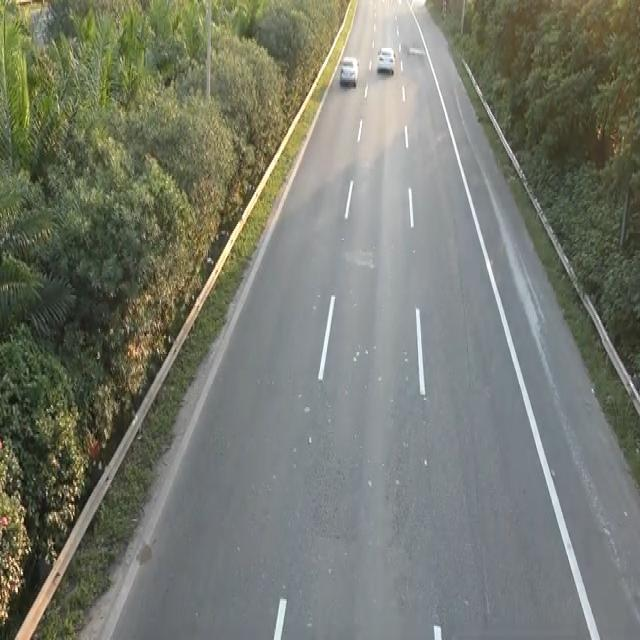bus: (374, 42, 399, 82), (338, 53, 359, 87)
